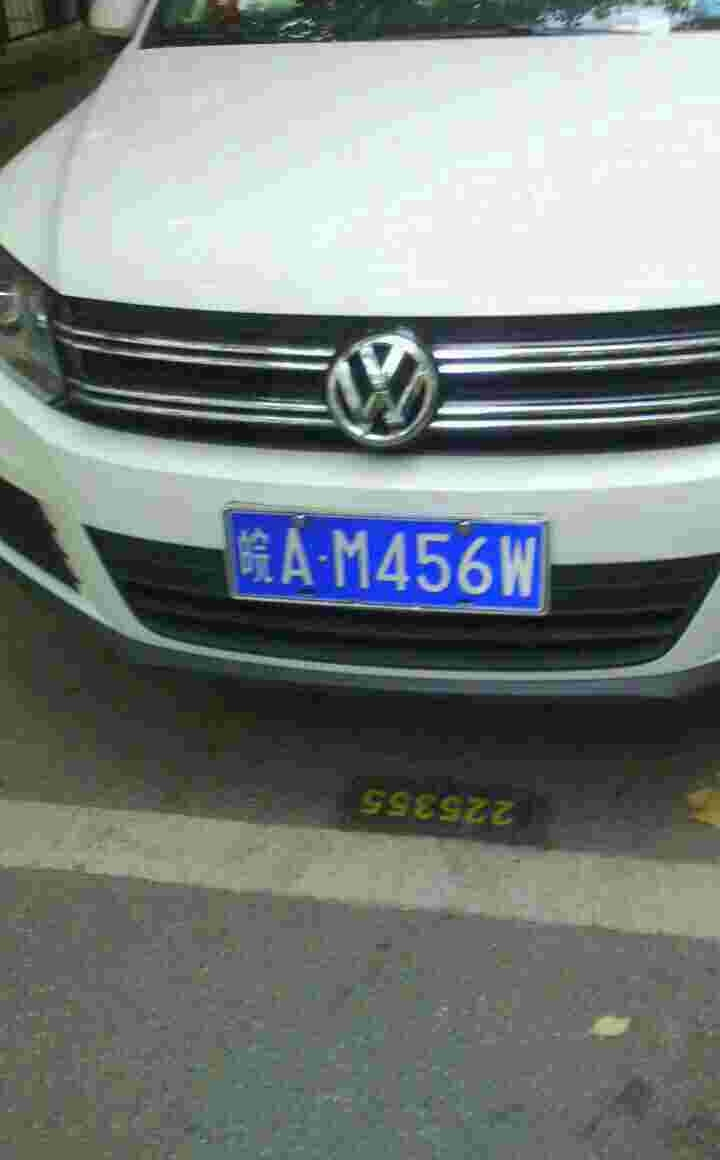license_plate: (233, 510, 545, 618)
